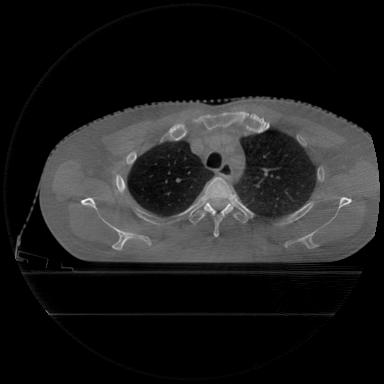body: (40, 98, 380, 262)
cord: (179, 176, 255, 237)
paru kanan: (128, 141, 214, 216)
paru kiri: (235, 130, 317, 217)
